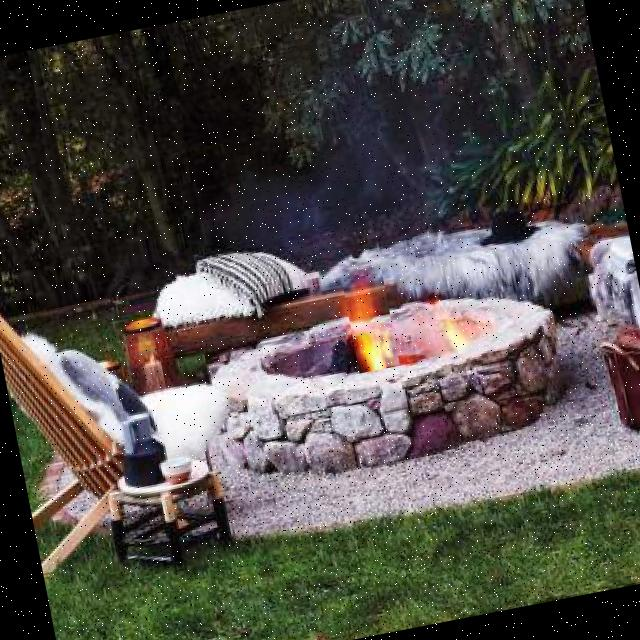fire: (338, 254, 400, 374), (420, 314, 479, 362)
